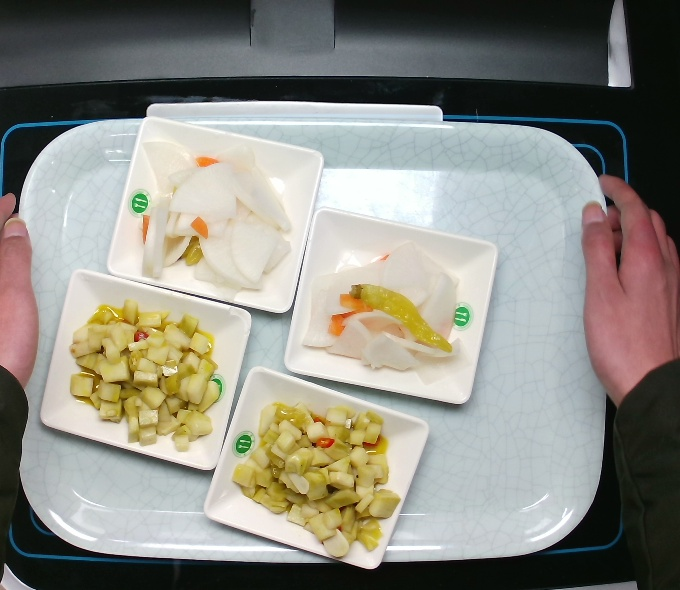wcq-LuLuoBo: (120, 130, 299, 296), (294, 241, 482, 392)
wcq-TangCuOu: (229, 383, 410, 557), (62, 291, 232, 457)
